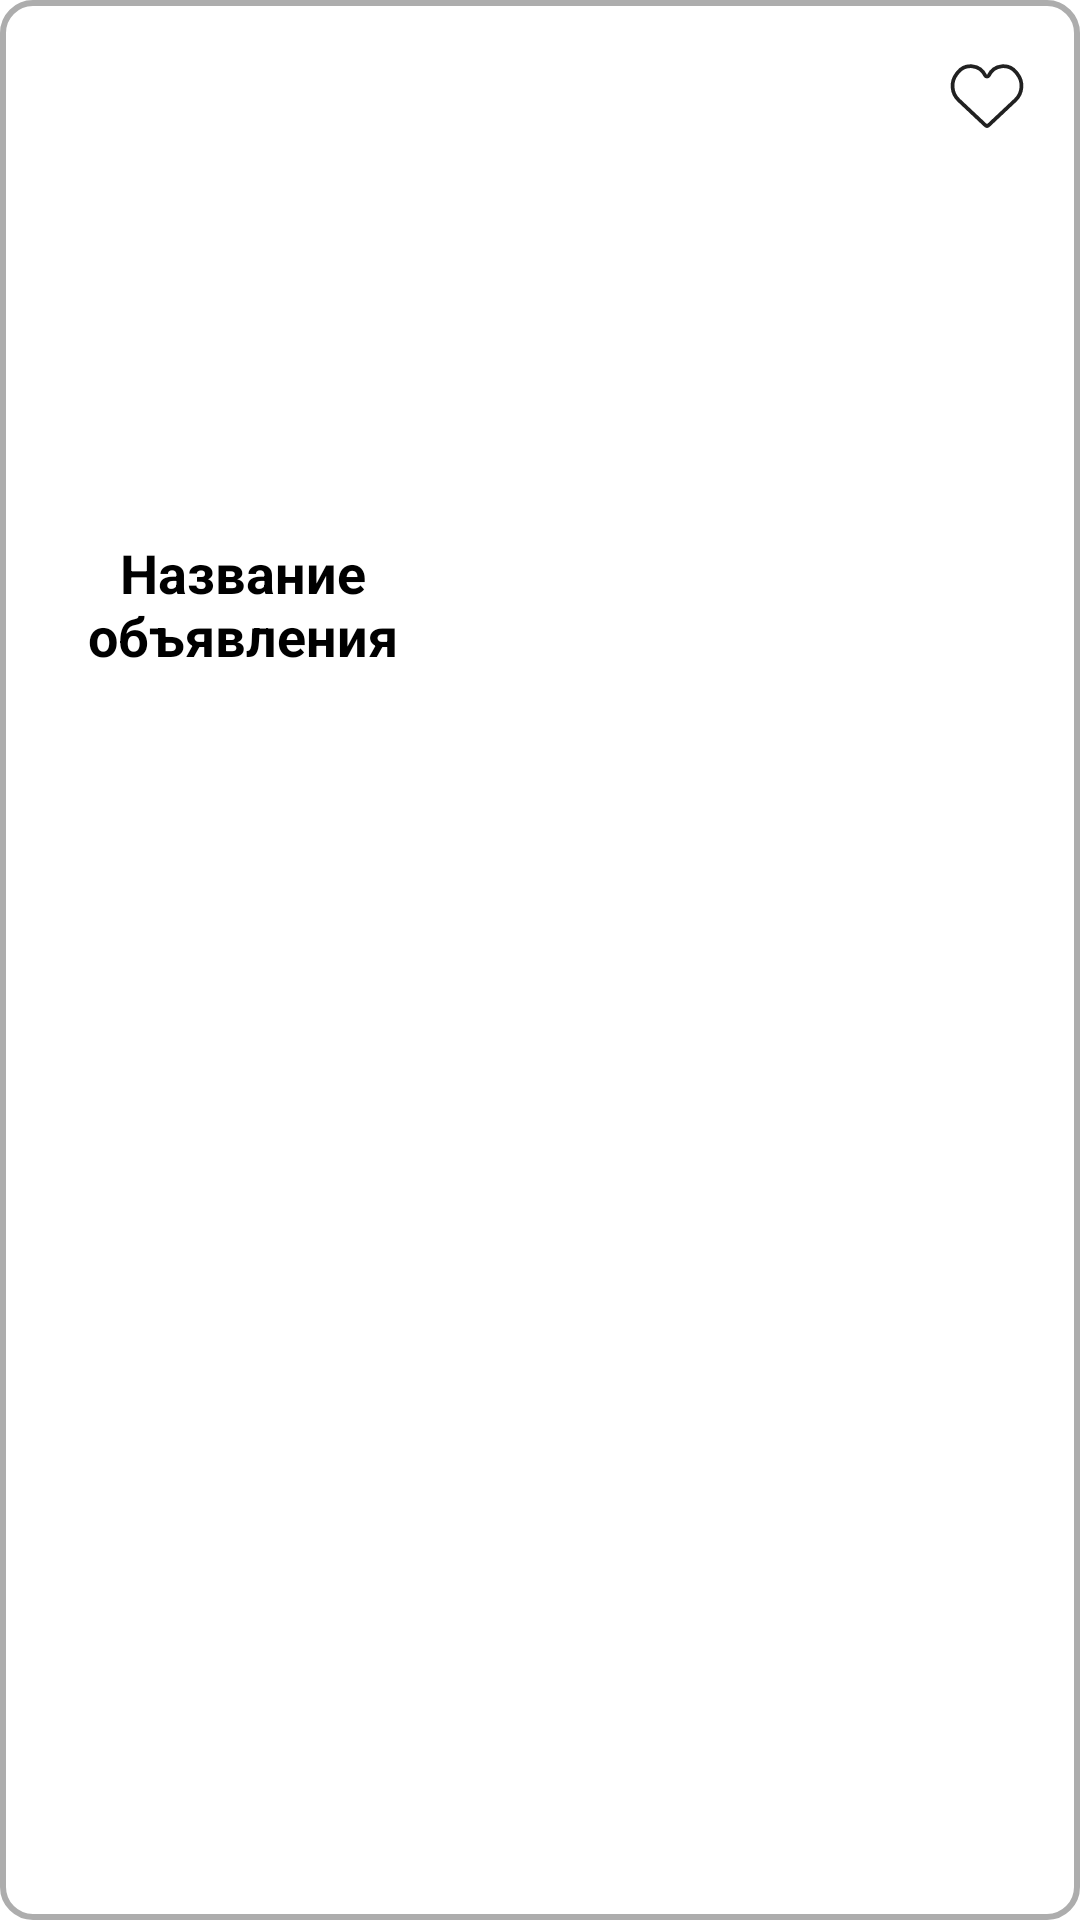

Icons on this 1080w x 1920h Android screen, each with its box as (x1, y1, x2, y2):
favourites false: (950, 64, 1024, 128)
